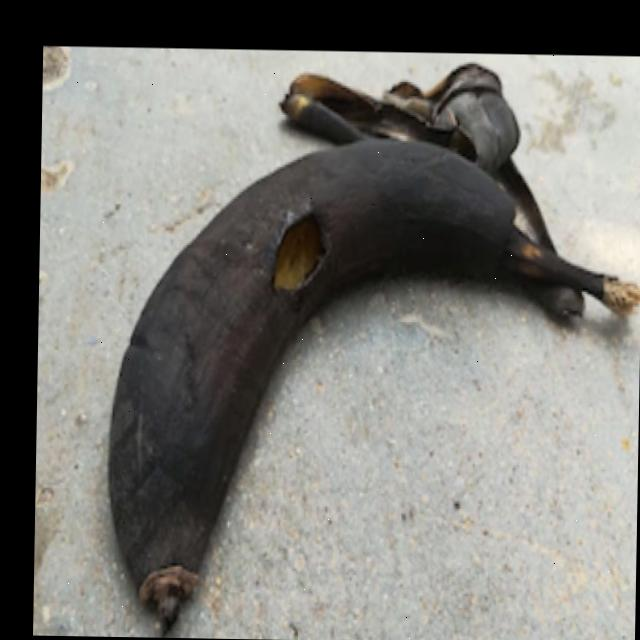Rotten: (78, 47, 640, 640)
